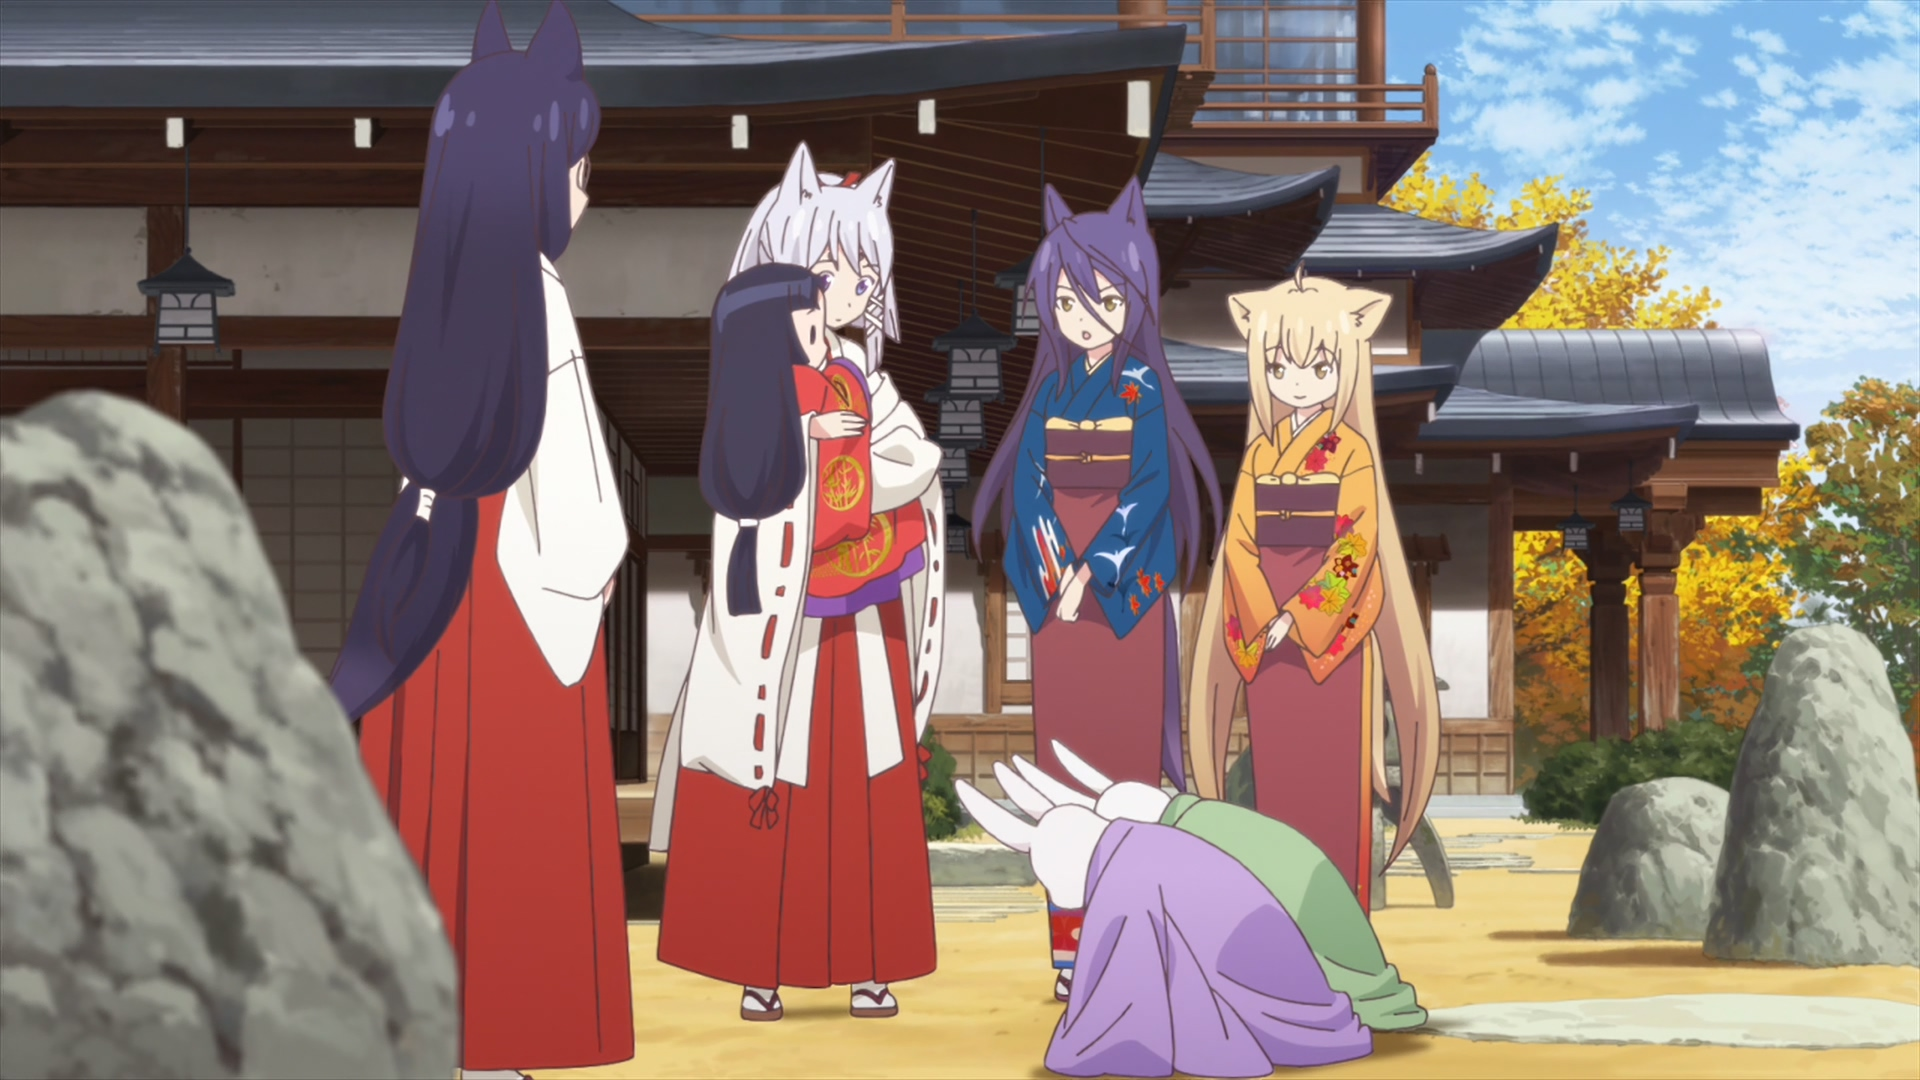其他: (957, 764, 1371, 1080), (1013, 741, 1424, 1030), (700, 262, 923, 617)
柊: (649, 141, 945, 1019)
柚: (1187, 261, 1437, 916)
皋: (972, 175, 1222, 1000)
菖: (326, 1, 636, 1080)
